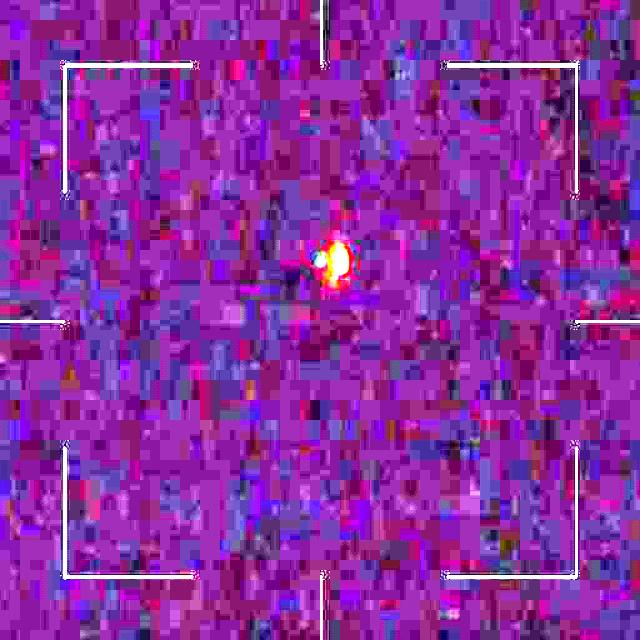bird: (314, 239, 352, 290)
